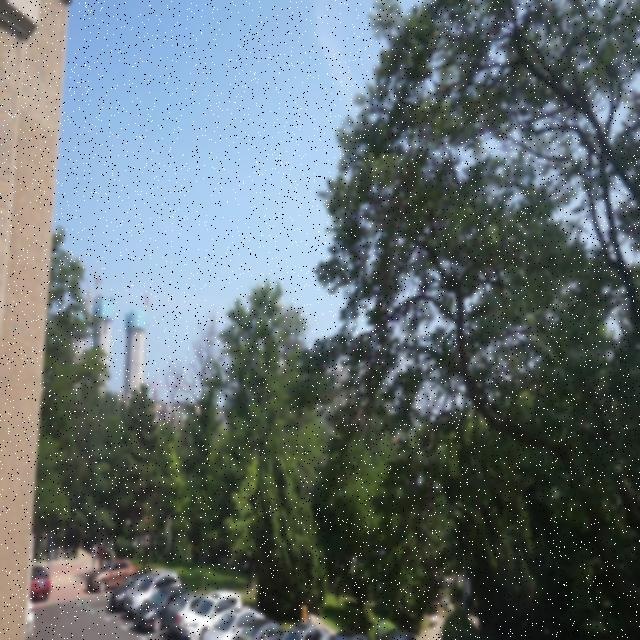UAV: (273, 302, 286, 310)
